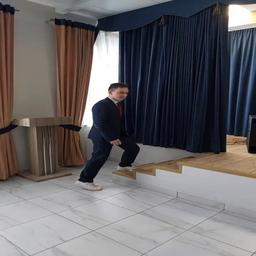person: (77, 83, 140, 191)
